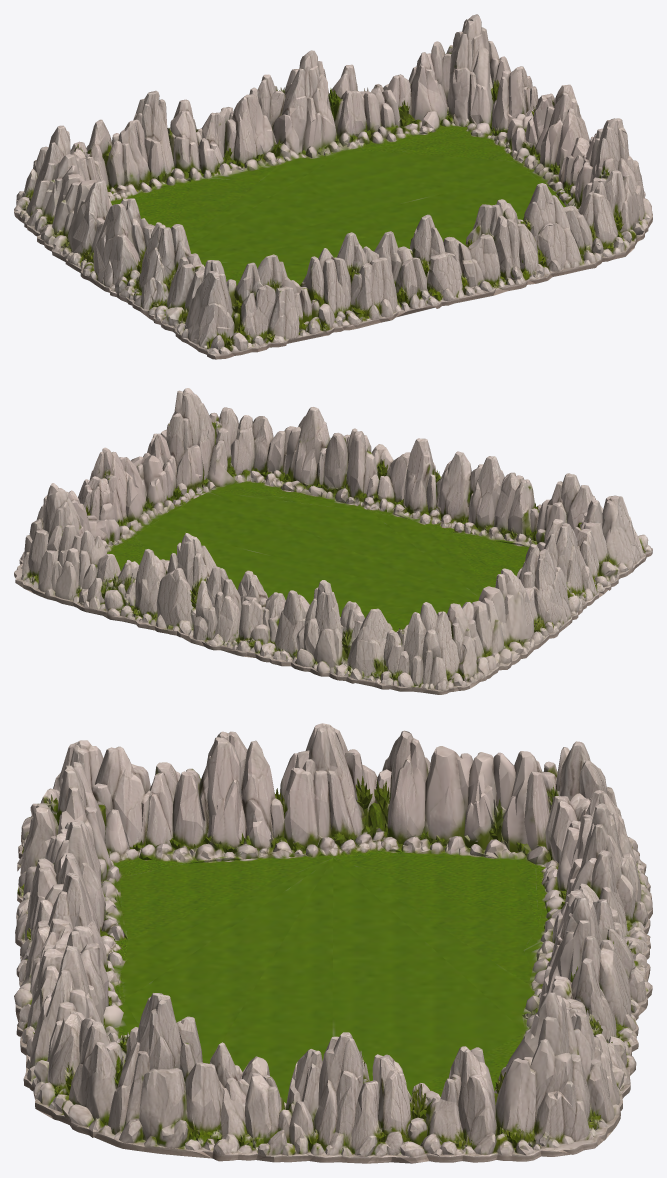
File: Meshy_AI_Grassy_Meadow_Arena_40k_20261030_texture_remesh_tri.fbx
The picture shows the model from 3 angles, top to bottom: view 1: azimuth 30°, elevation 25°; view 2: azimuth 150°, elevation 25°; view 3: azimuth 270°, elevation 25°; orthographic projection. The views are drawn at different scales.
Parts seen in each view (by area): view 1: output_unwrapped; view 2: output_unwrapped; view 3: output_unwrapped.
Part boxes in pixels (left/top/right/bottom): output_unwrapped: left=14, top=14, right=652, bottom=359; output_unwrapped: left=14, top=388, right=652, bottom=694; output_unwrapped: left=14, top=723, right=652, bottom=1163.
Size of the model in its own units: 190 by 35.61 by 147.
1 material, 1 textured.
